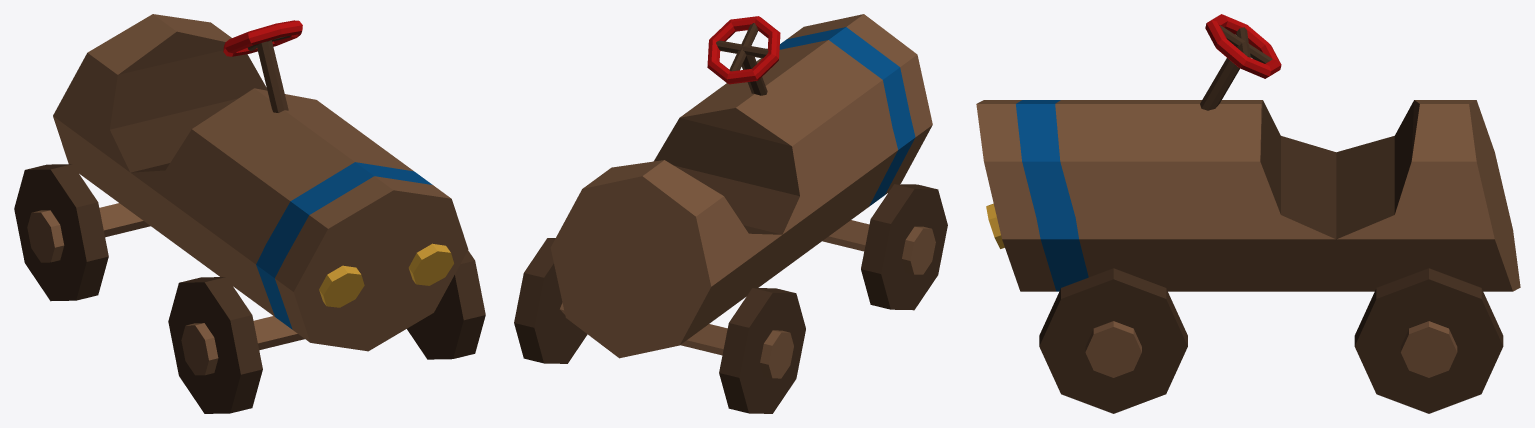
Rendered from car_full.fbx.
3 views of the same model, side by side, from view 1: azimuth 30°, elevation 25°; view 2: azimuth 150°, elevation 25°; view 3: azimuth 270°, elevation 25° (orthographic). The views are drawn at different scales.
Visible parts, largest first — view 1: pCylinder78; view 2: pCylinder78; view 3: pCylinder78.
Part boxes in pixels (<box>): pCylinder78: <box>14,14,485,413</box>; pCylinder78: <box>514,14,947,413</box>; pCylinder78: <box>976,14,1520,413</box>.
Size of the model in its own units: 1.6 by 1.87 by 2.77.
